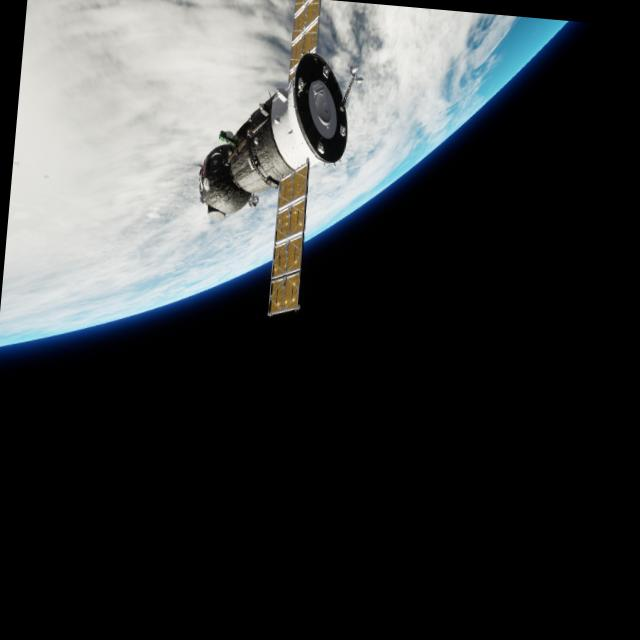Satellites revolving around earth: (192, 39, 366, 234)
